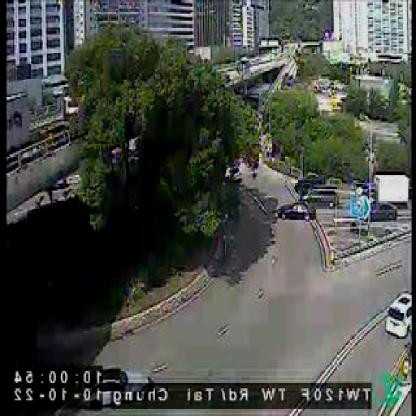Car: (77, 359, 165, 408), (352, 174, 408, 209), (384, 290, 414, 336), (304, 188, 338, 216), (279, 200, 317, 221)
